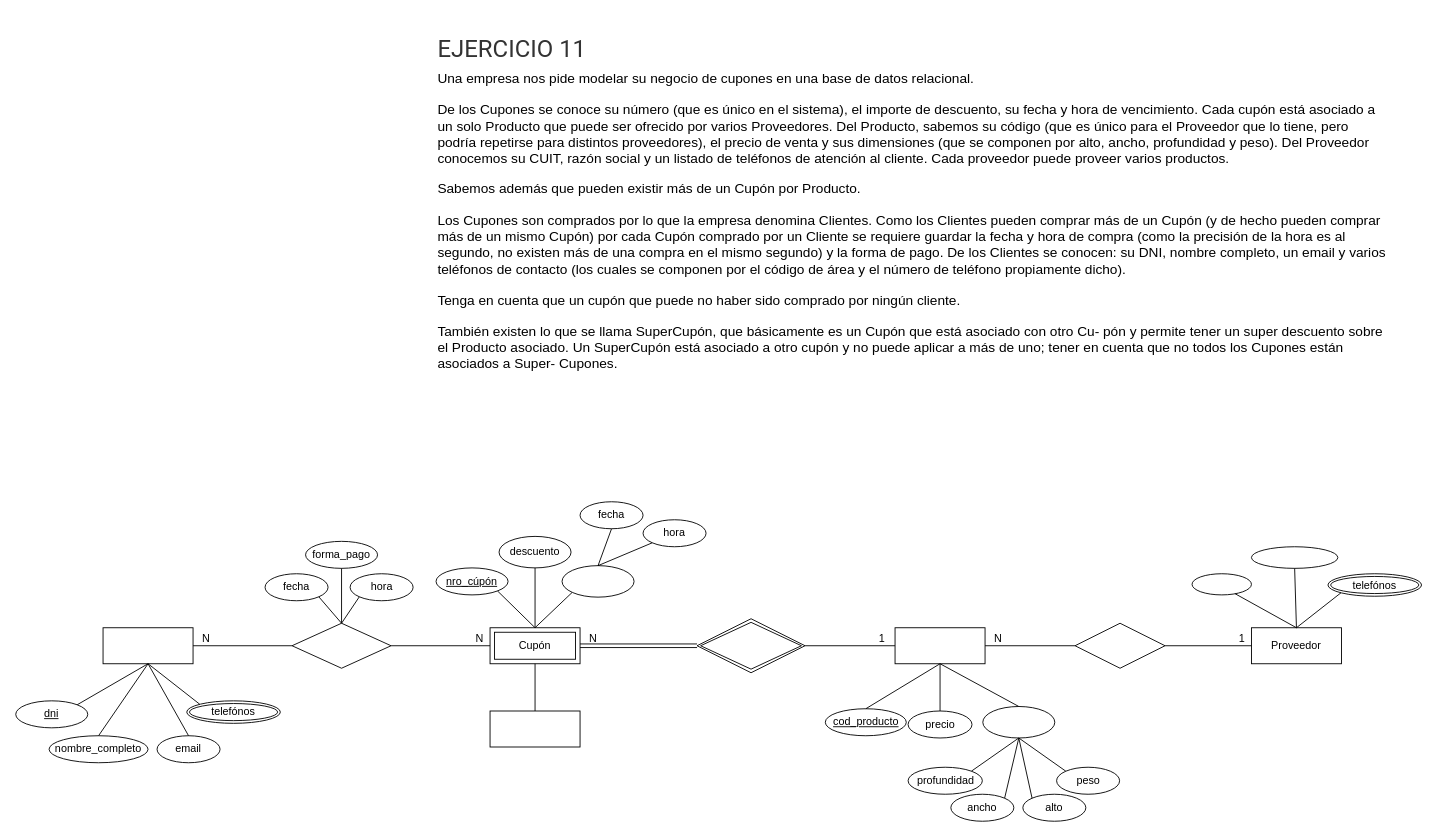
Some shapes in this 1437 by 837 pixel diagram are drawn without their labels. Here are the shapes that lost their labels. From the top down, the box of each, then its label:
(1251, 546, 1338, 568): razón_social
(561, 565, 634, 597): vencimiento
(1191, 573, 1251, 595): CUIT
(102, 627, 193, 664): Cliente
(291, 622, 391, 668): puede comprar
(696, 618, 805, 673): está asociado
(894, 627, 985, 664): Producto
(1074, 622, 1165, 668): ofrece
(489, 710, 580, 747): Supercupón
(982, 706, 1055, 738): dimensiones
